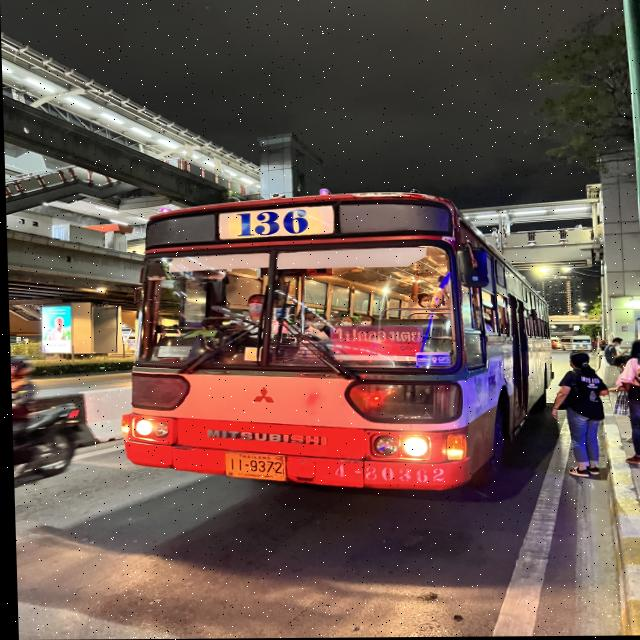BMTA-bus: (117, 193, 546, 496)
Bus Line Number: (223, 206, 315, 244)
Bus Side Number: (324, 457, 452, 496)
Destination Sign: (320, 319, 422, 357)
